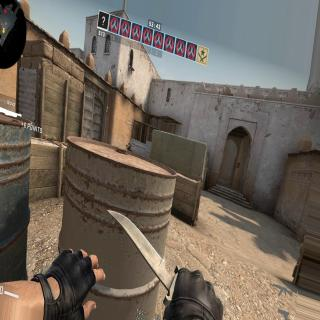CT-Body: (125, 142, 132, 152)
CT-Head: (128, 142, 130, 145)
